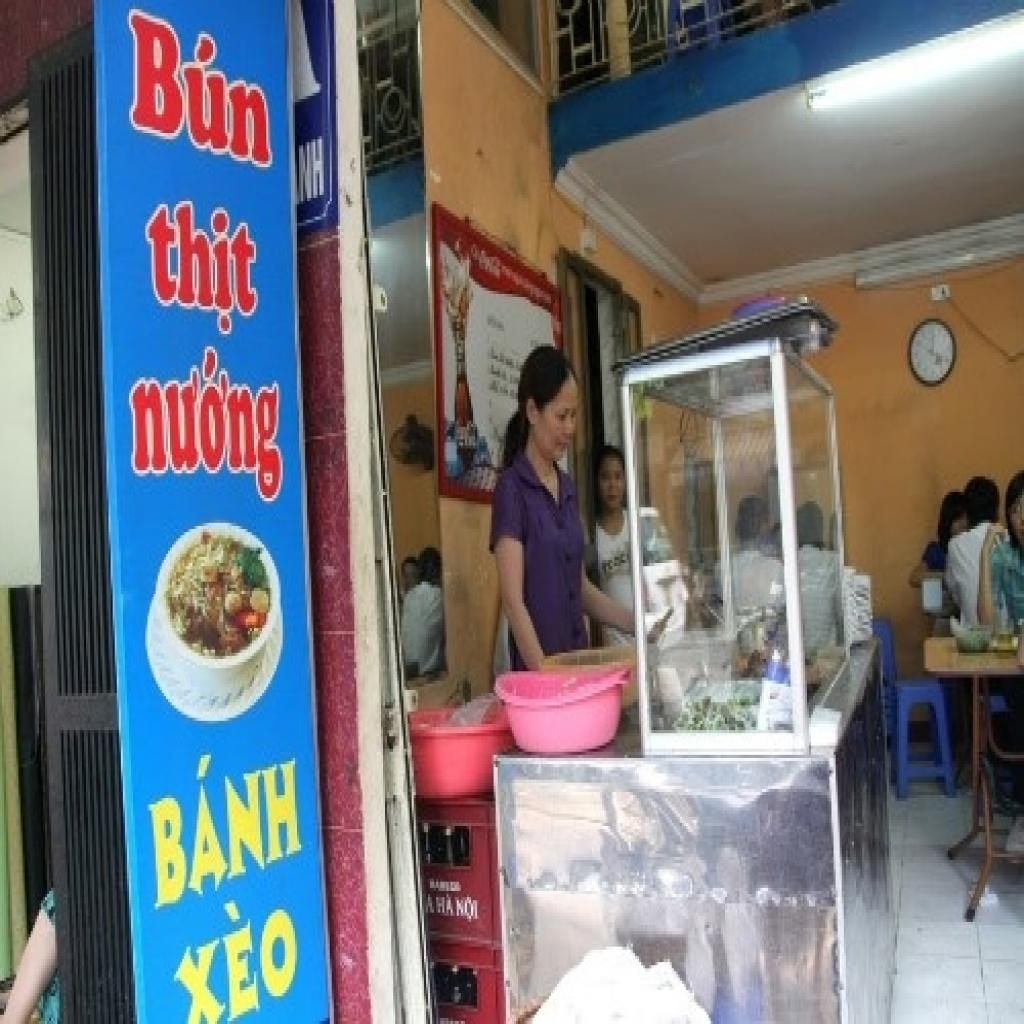text: (141, 733, 305, 925), (129, 338, 287, 510), (127, 3, 276, 173), (163, 881, 309, 1024), (144, 189, 262, 343), (297, 130, 328, 210), (455, 891, 481, 928), (434, 891, 457, 922), (424, 894, 438, 922)
